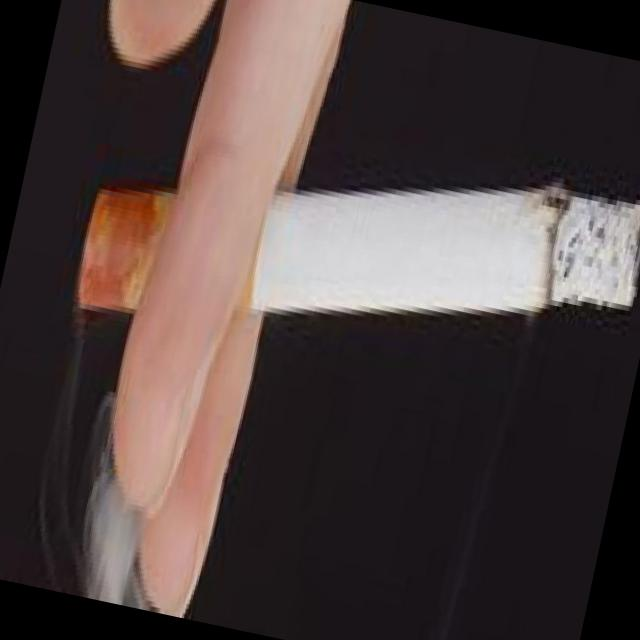smoke: (71, 84, 640, 427)
